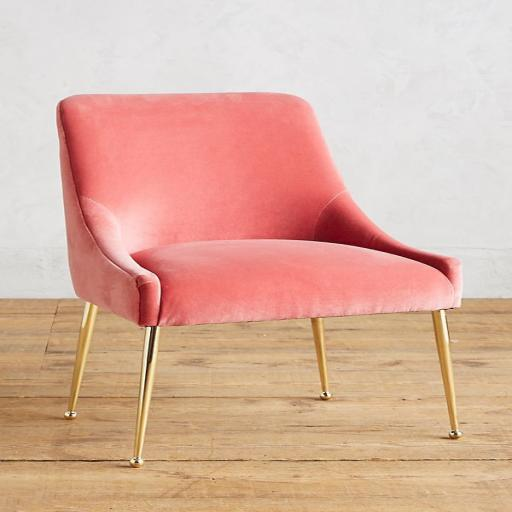chair: (56, 92, 464, 468)
wall: (0, 0, 512, 299)
